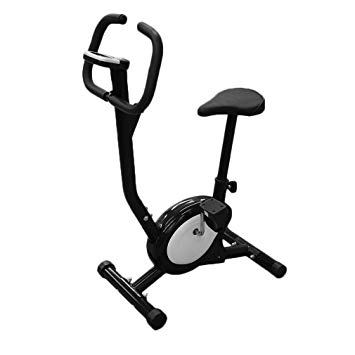gym_bike: (70, 11, 293, 333)
